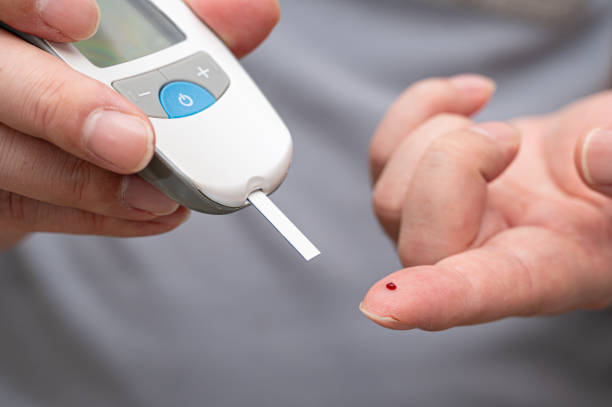blood: (384, 277, 398, 292)
